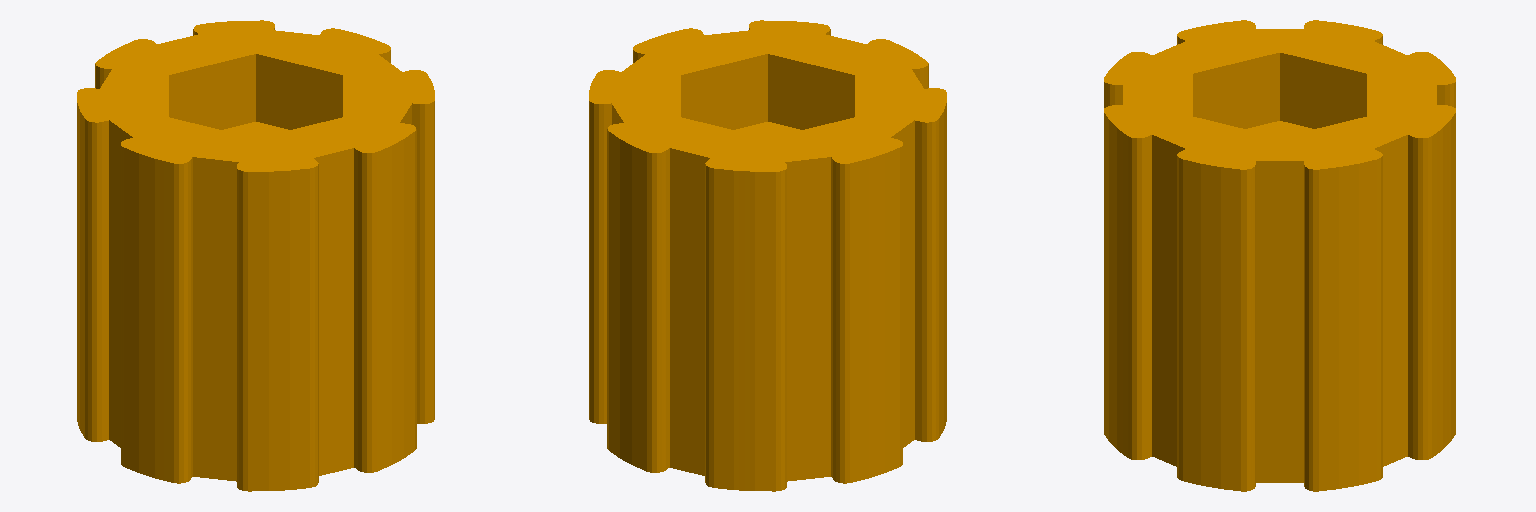
The robot description file, URDF, robot "00015_socket":
<?xml version="1.0"?>
<robot name="00015_socket">
	<link name="00015_socket">
		<visual>
			<geometry>
				<mesh filename="../mesh/00015/asset_socket.obj"/>
			</geometry>
		</visual>
		<collision>
			<geometry>
				<mesh filename="../mesh/00015/asset_socket.obj"/>
			</geometry>
			<sdf resolution="256"/>
		</collision>
	</link>
</robot>

--- What the picture shows (computed from the rendered views, not written in the file) ---
3 views of the same robot in one strip: view 1: azimuth 30°, elevation 25°; view 2: azimuth 150°, elevation 25°; view 3: azimuth 270°, elevation 25° (orthographic).
Model 00015_socket with 1 links and 0 joints (none), rooted at 00015_socket, posed every joint at zero.
Visible links, largest first — view 1: 00015_socket; view 2: 00015_socket; view 3: 00015_socket.
Boxes of the visible links, x1,y1,x2,y2 form: 00015_socket: (77,20,434,491); 00015_socket: (589,20,946,491); 00015_socket: (1104,20,1455,491).
Bounding box of the posed robot: 0.0252 × 0.0252 × 0.0254 m (x, y, z).
1 mesh visuals loaded from 1 distinct referenced files (1 OBJ).